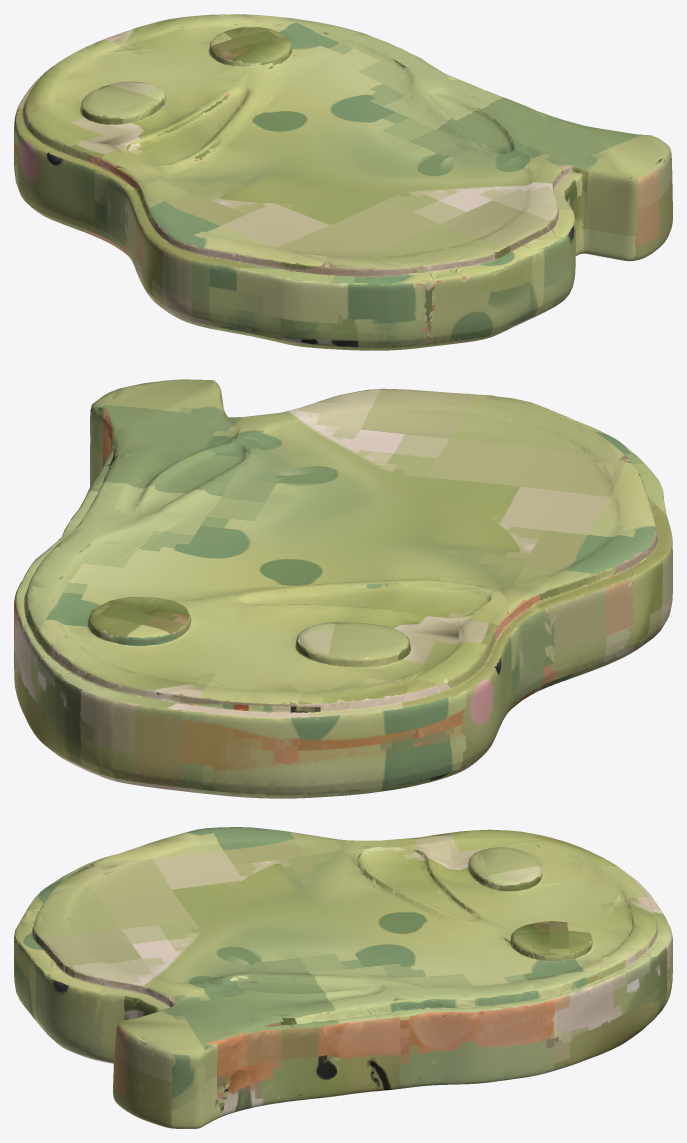
The model's file is Food.fbx.
The picture shows the model from 3 angles, top to bottom: view 1: azimuth 30°, elevation 25°; view 2: azimuth 150°, elevation 25°; view 3: azimuth 270°, elevation 25°; orthographic projection. The views are drawn at different scales.
Parts seen in each view (by area): view 1: model; view 2: model; view 3: model.
Boxes of the visible parts, x1=… form: model: x1=14, y1=14, x2=672, y2=350; model: x1=14, y1=379, x2=672, y2=798; model: x1=14, y1=827, x2=672, y2=1128.
Bounding box in the file's own units: 157 × 29.17 × 191.
